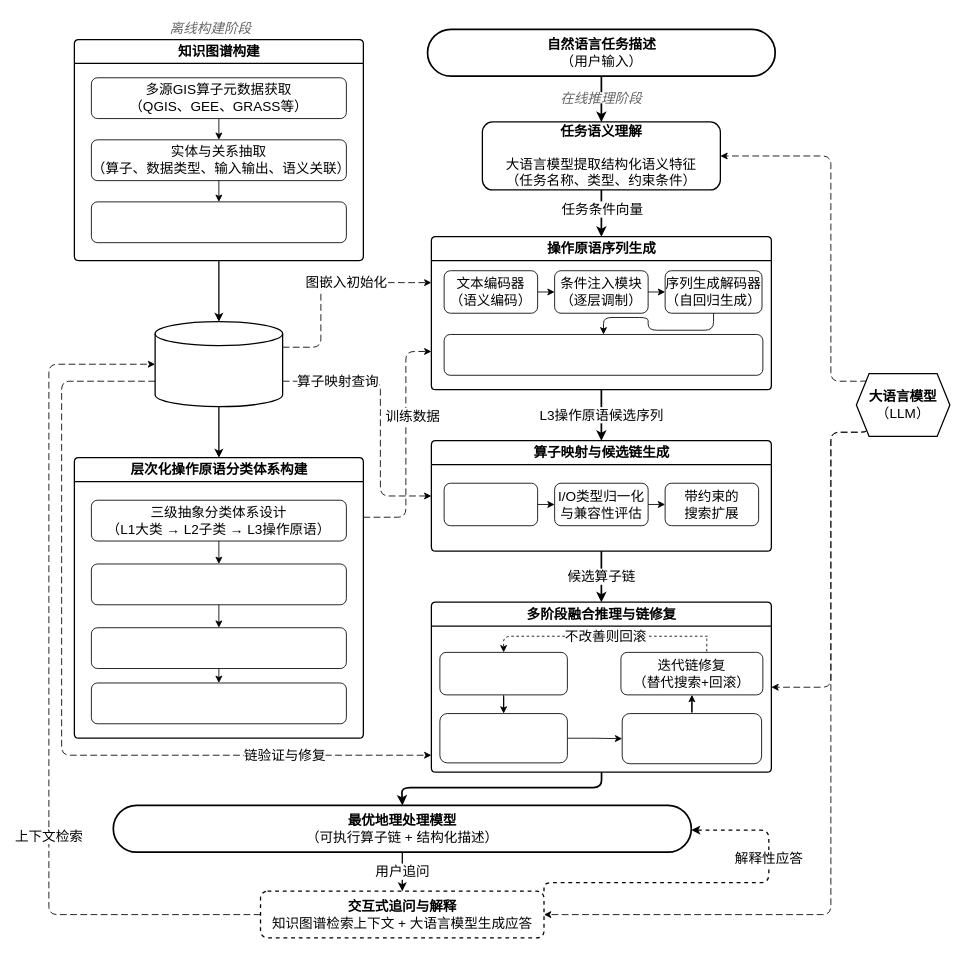
Some shapes in this 965 by 953 pixel diagram are drawn without their labels. Each missing label, with the centre of its shape:
GraphRAG 结构化评分: (x=503, y=673)
分类标准与命名规范: (x=218, y=584)
图数据库存储与管理: (x=218, y=222)
多样性约束候选序列生成 （分组搜索 + 长度惩罚 + 多因子评分）: (x=603, y=354)
多源算子到L3操作原语的 语义映射: (x=218, y=648)
监督样本构建 （GEE脚本解析 → L3操作序列标注）: (x=218, y=703)
知识图谱 （图数据库）: (x=218, y=364)
融合评分 结构化评分 × α + 语义评分 × (1 − α): (x=691, y=738)
语义相似度 融合评分: (x=490, y=504)
语义评分 （大语言模型）: (x=503, y=738)
